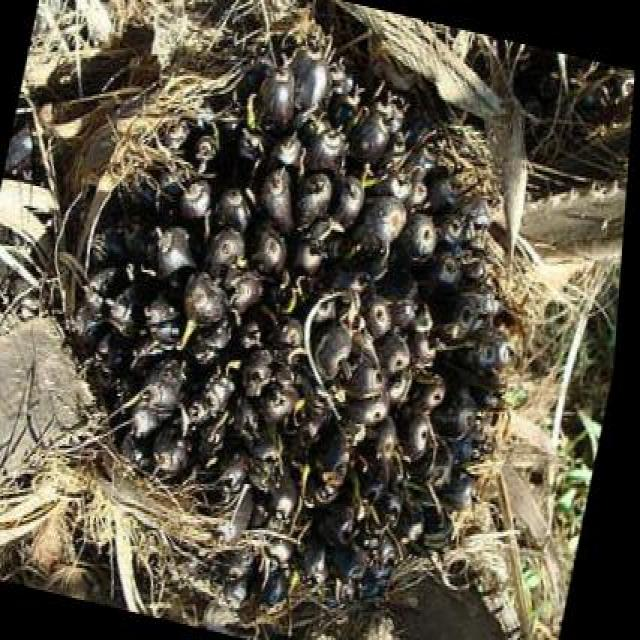Unripe: (20, 0, 571, 640)
